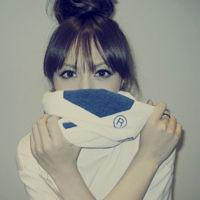WRONG: (51, 58, 119, 129)
